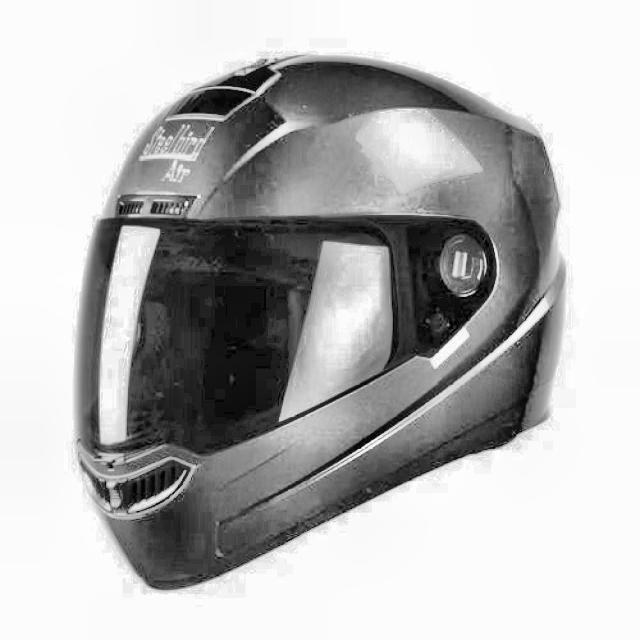Helmet: (74, 33, 579, 605)
